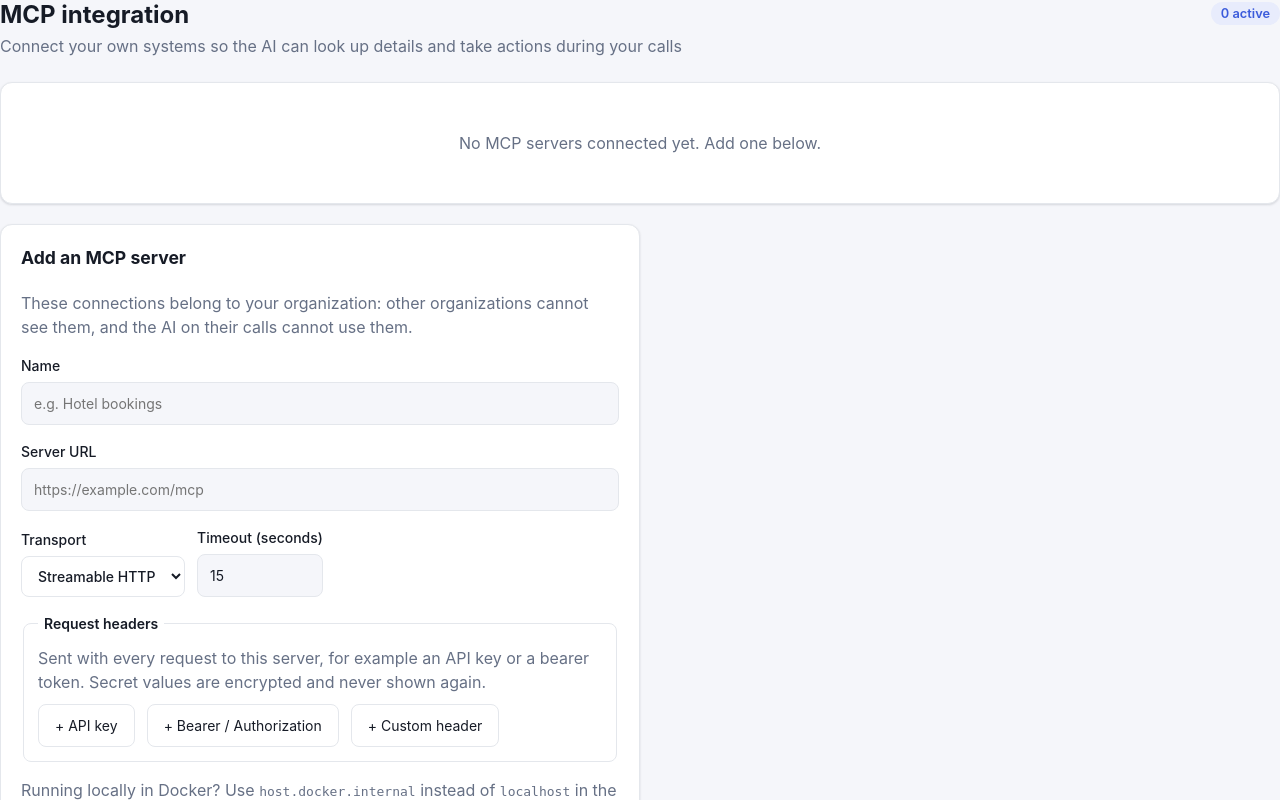
it: McpPage › shows server-side validation errors
expect the text "No MCP servers connected yet. Add one below." is shown: met, box [459,133,821,153]
Step 1. Type "X" into the field labelled "Name" → (320, 404), box [21,382,619,425]
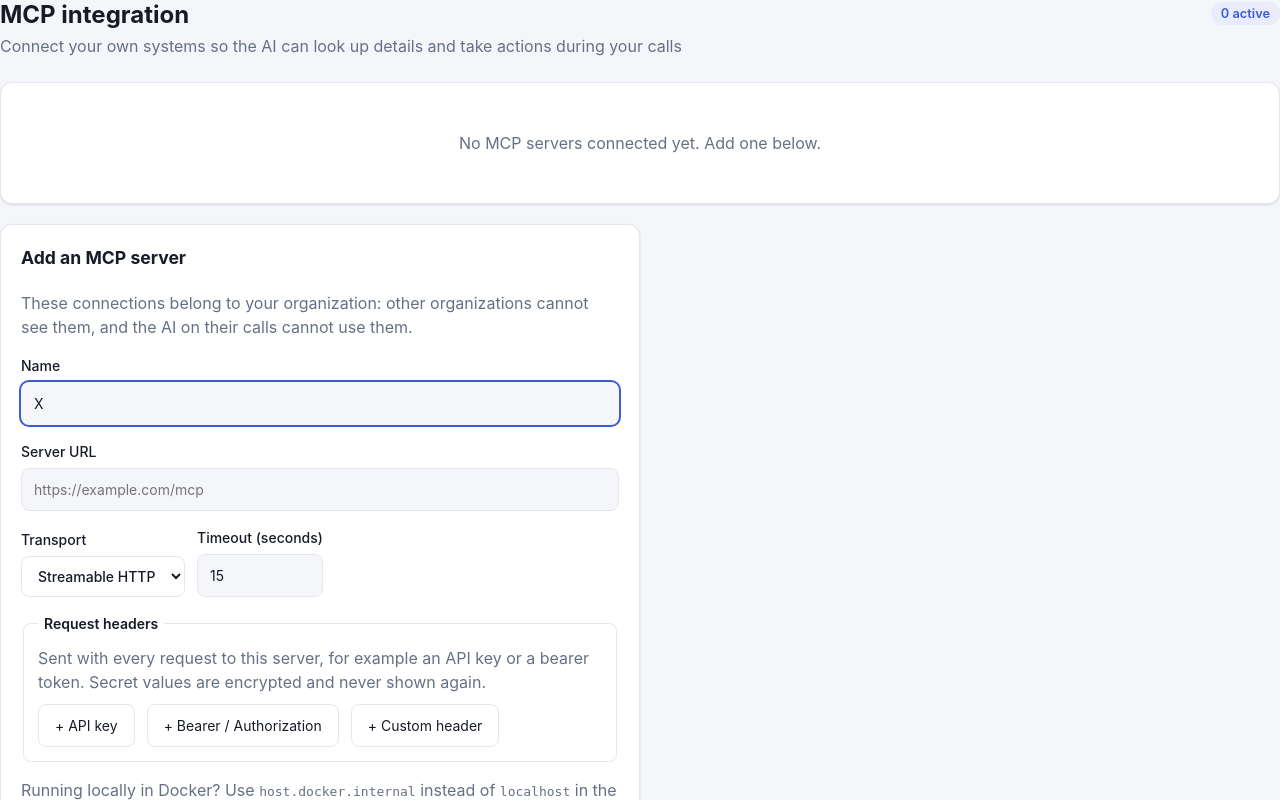
Step 2. Type "http://169.254.169.254/" into the field labelled "Server URL" → (320, 490), box [21,468,619,511]
(page scrolled)
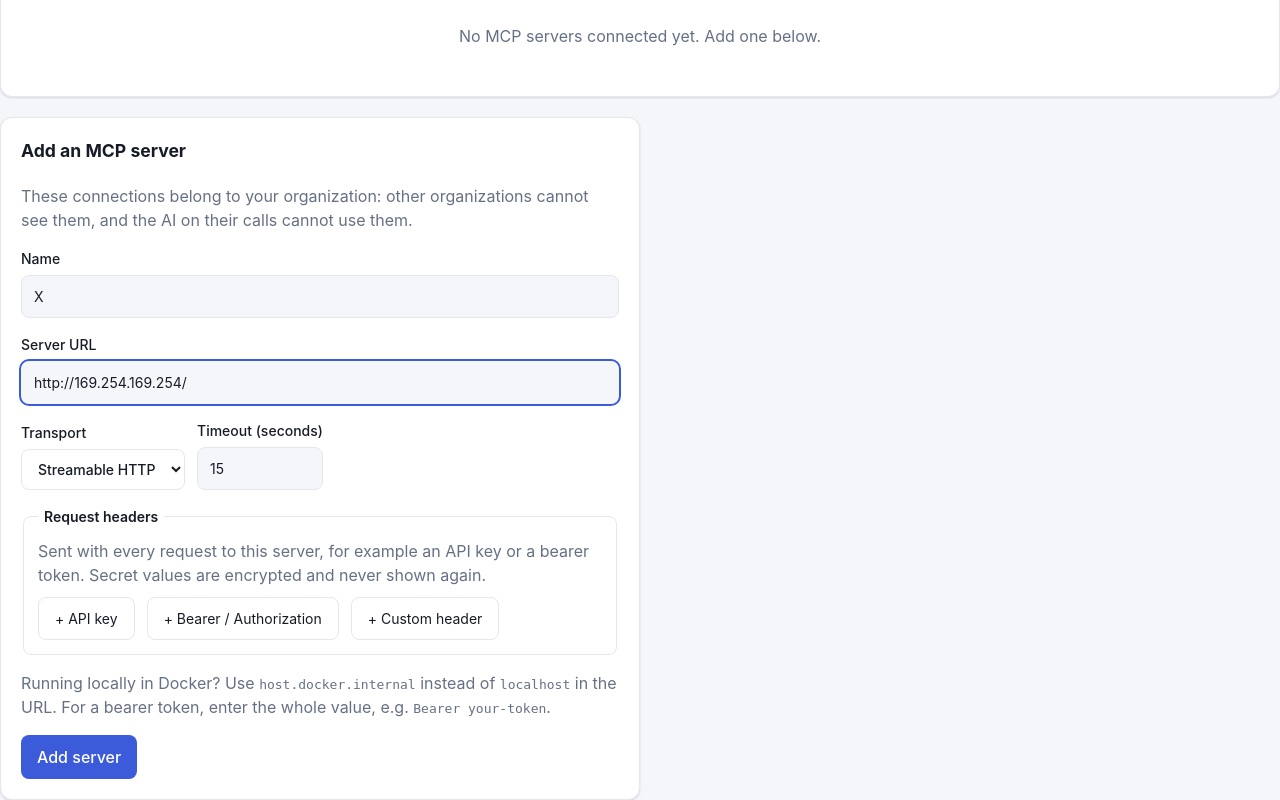
Step 3. Click the button "Add server" → (79, 757), box [21,735,137,779]
(page scrolled)
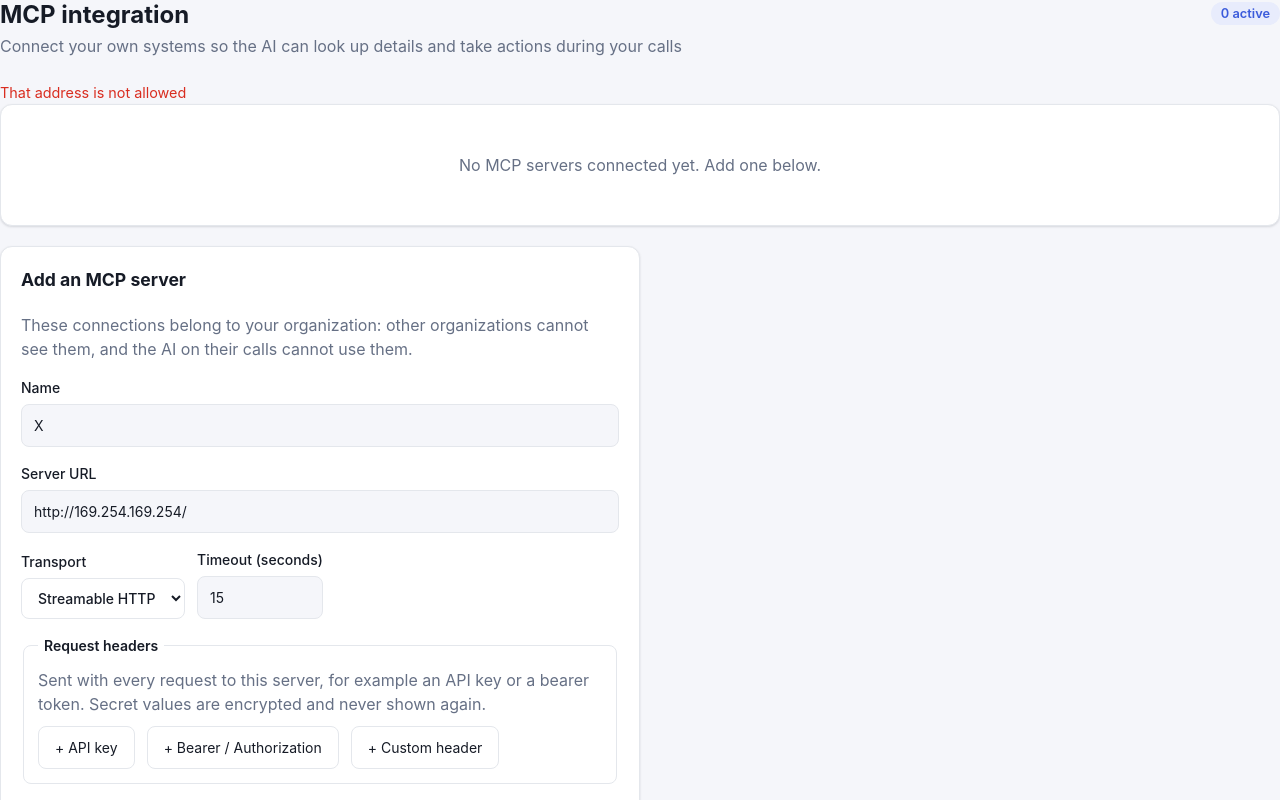
expect the message reads "That address is not allowed": met, box [0,84,186,101]
